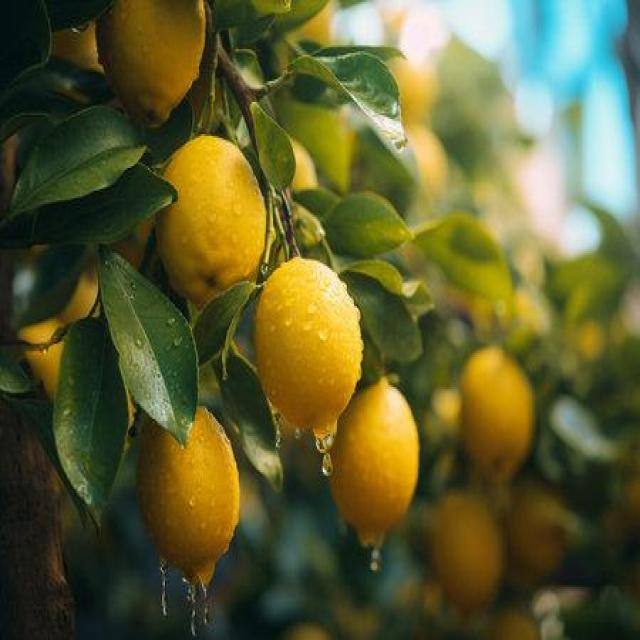fruit: (253, 256, 364, 433), (155, 135, 268, 303), (136, 402, 240, 572), (99, 0, 206, 126), (18, 262, 100, 398), (459, 345, 535, 478), (427, 491, 503, 612), (508, 487, 568, 578), (603, 458, 640, 539), (391, 52, 435, 120), (406, 126, 448, 194), (50, 23, 99, 72), (110, 219, 153, 273), (287, 1, 335, 49), (510, 287, 548, 341), (285, 138, 319, 195), (486, 607, 538, 637), (463, 289, 501, 330), (570, 320, 604, 359), (433, 386, 463, 430), (275, 412, 305, 448), (382, 5, 411, 41)
